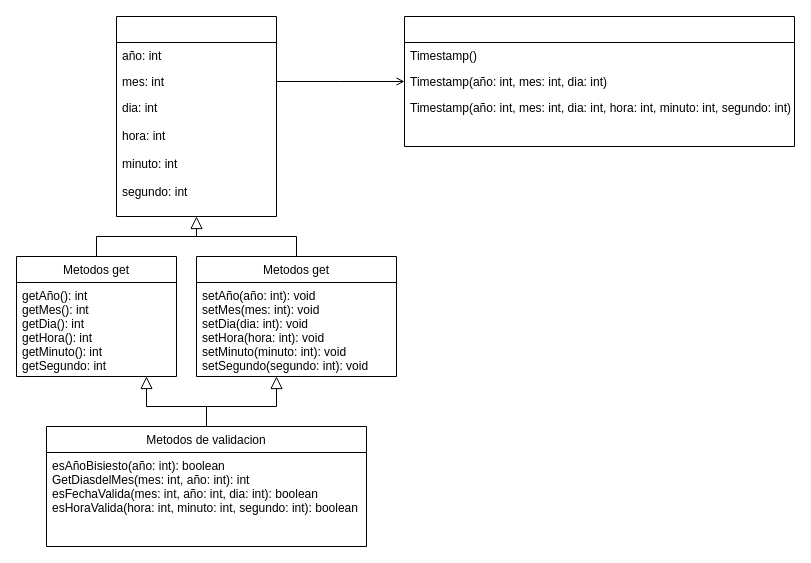
Image size: 811x563. Some labels were removed from this diagram. The box of each missing label's shape, as (x1, y1, x2, y2) in pixels:
Constructores: (404, 16, 794, 146)
Timestamp: (116, 16, 276, 216)
